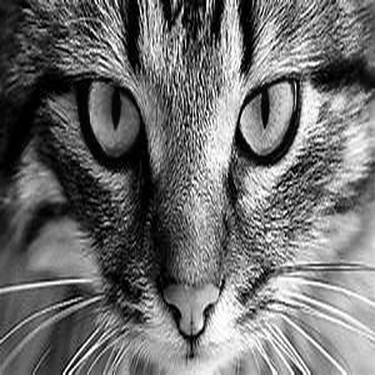cat: (1, 7, 369, 367)
